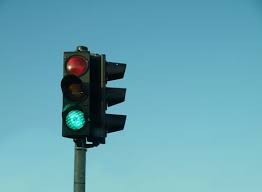green: (59, 48, 91, 140), (64, 53, 87, 132)
